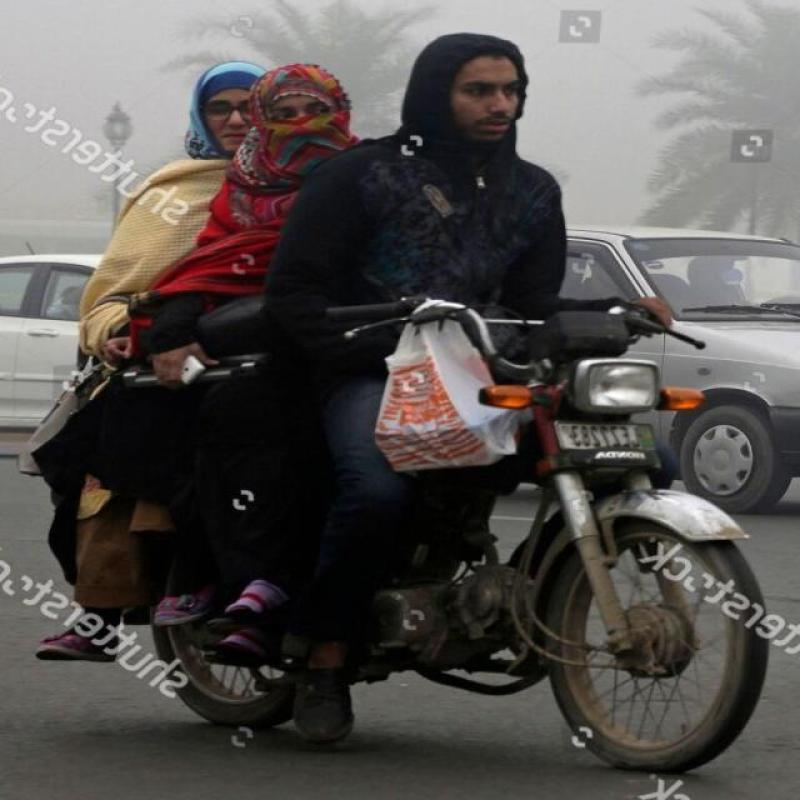nohelmet: (411, 30, 584, 194)
